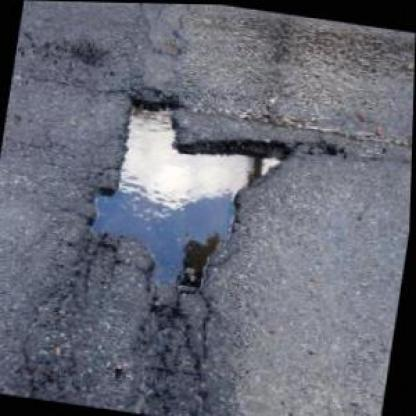pothole: (75, 80, 301, 312)
